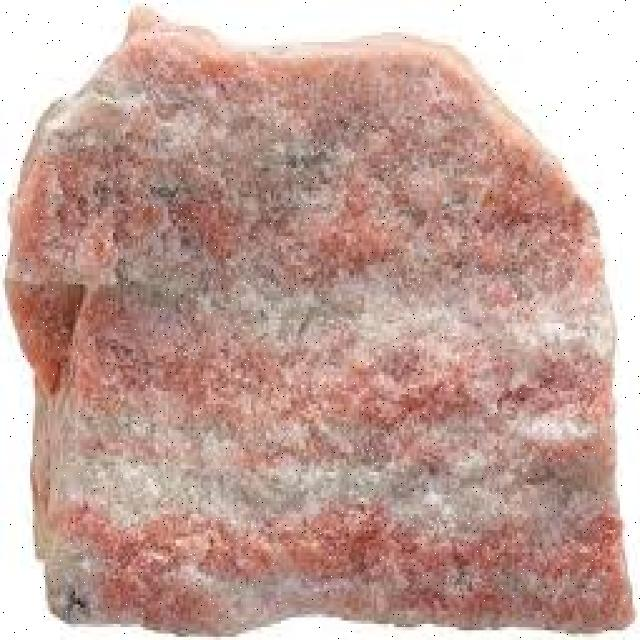Metamorphic: (5, 3, 640, 637)
